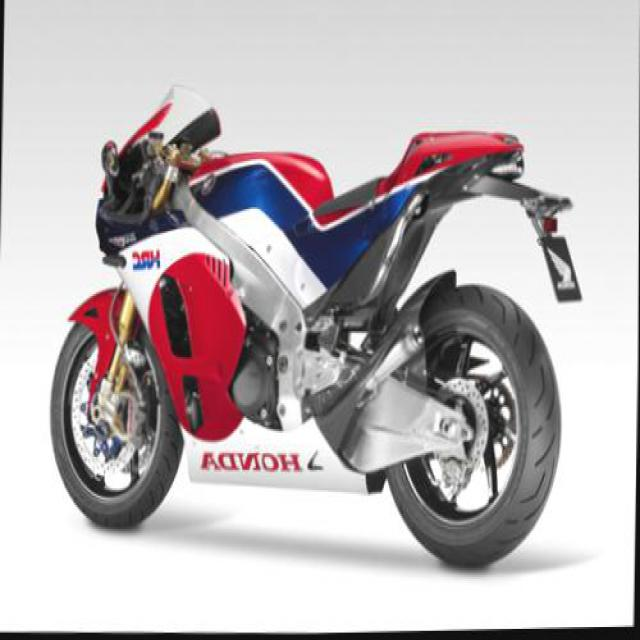HRC RCV 213: (46, 69, 589, 582)
